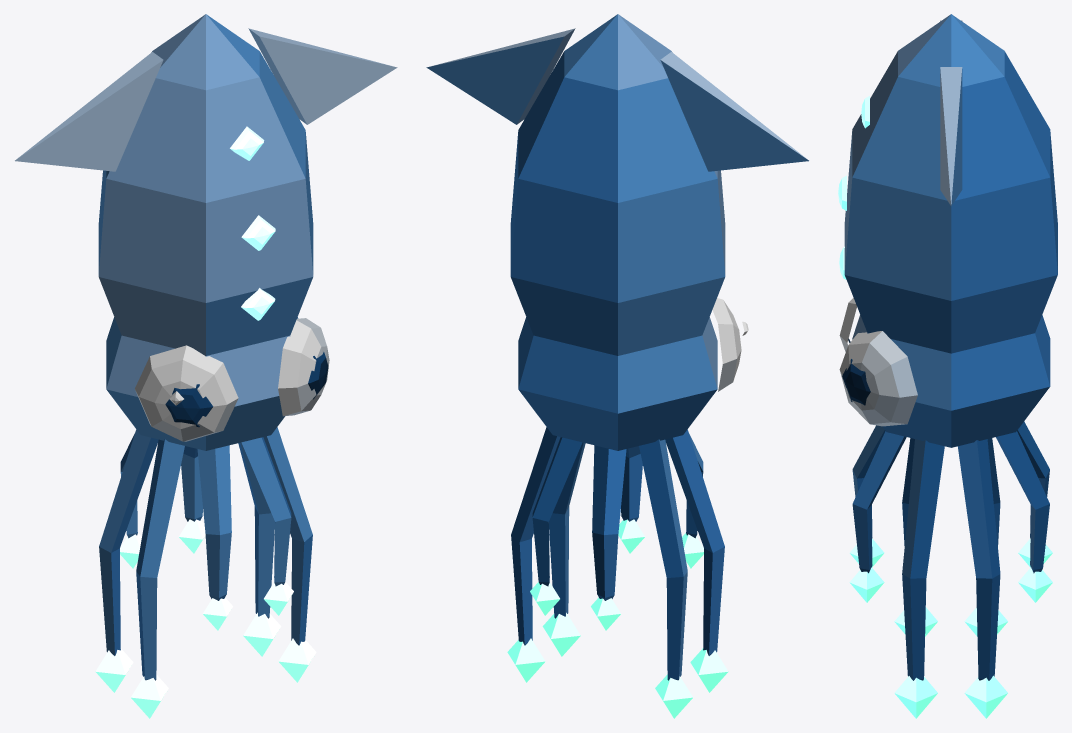
File: firefly-squid.glb
The picture shows the model from 3 angles, left to right: view 1: azimuth 30°, elevation 25°; view 2: azimuth 150°, elevation 25°; view 3: azimuth 270°, elevation 25°; orthographic projection.
Parts seen in each view (by area): view 1: body, arms, fins; view 2: body, arms, fins; view 3: body, arms, fins.
Boxes of the visible parts, box(x1,y1,x2,y2) form: body: box(98, 14, 329, 450); arms: box(95, 427, 316, 718); fins: box(15, 28, 397, 171); body: box(510, 14, 748, 450); arms: box(507, 427, 728, 718); fins: box(426, 28, 808, 171); body: box(838, 14, 1057, 447); arms: box(849, 421, 1052, 718); fins: box(940, 20, 962, 205).
Size of the model in its own units: 2 by 3.36 by 1.
